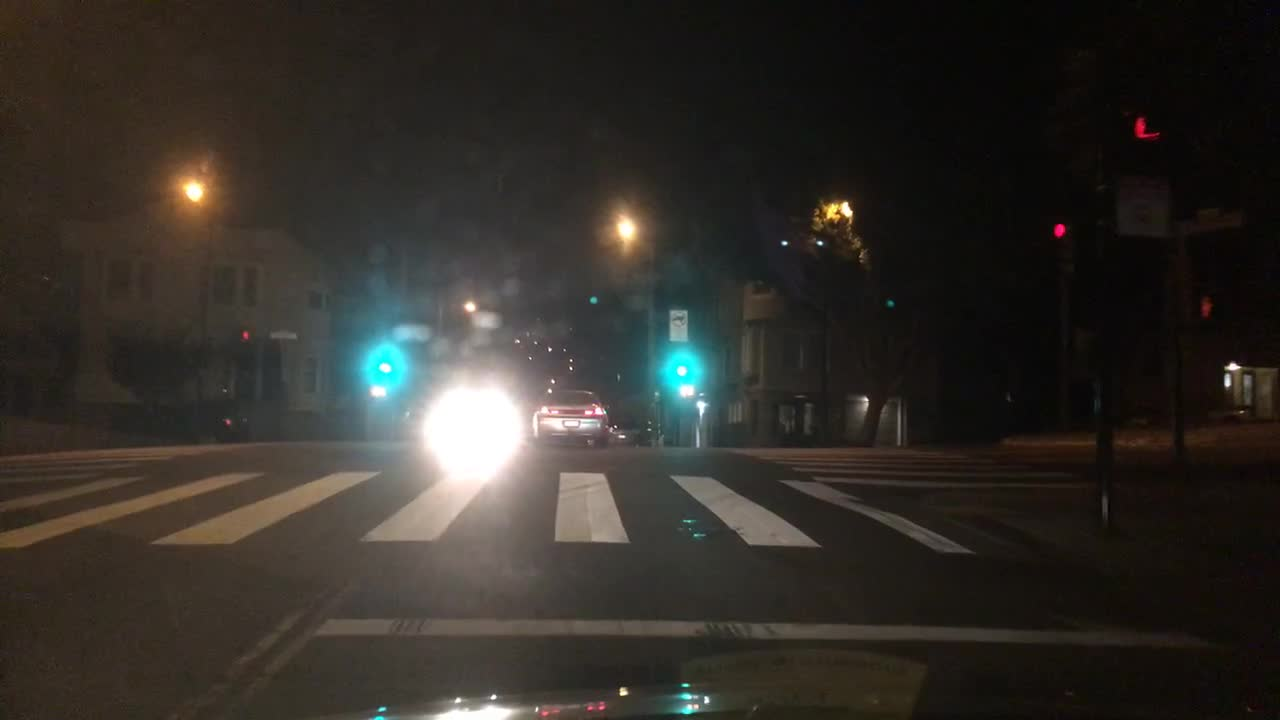car: (531, 385, 611, 444), (168, 403, 243, 438), (607, 413, 643, 444)
traffic light: (1135, 112, 1159, 142), (378, 349, 394, 383), (1200, 290, 1218, 320), (1053, 218, 1067, 249), (674, 353, 686, 384), (237, 326, 251, 345), (464, 298, 475, 315), (589, 293, 599, 305)
traffic sign: (1119, 177, 1170, 235), (670, 310, 686, 340)
